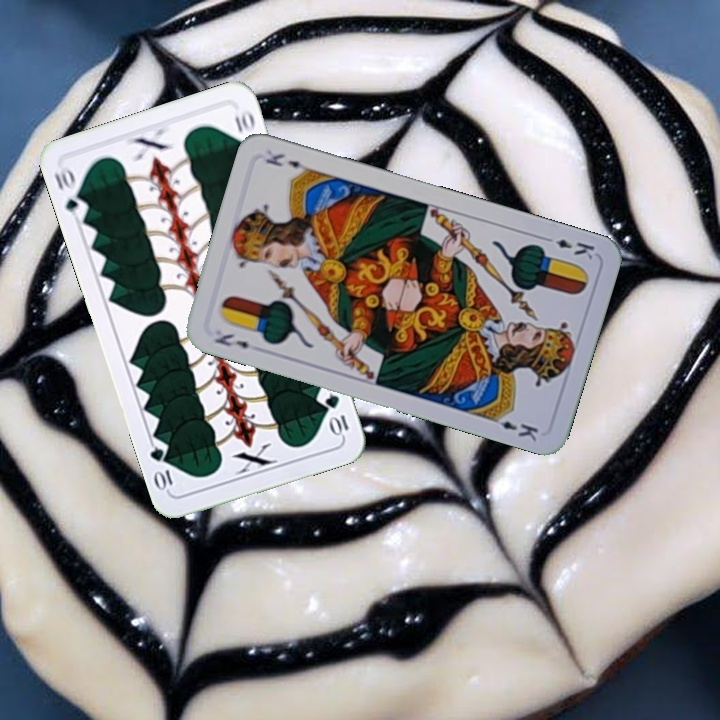EK: (539, 232, 597, 262), (210, 329, 251, 351)
G10: (50, 162, 91, 219), (321, 390, 352, 439)
